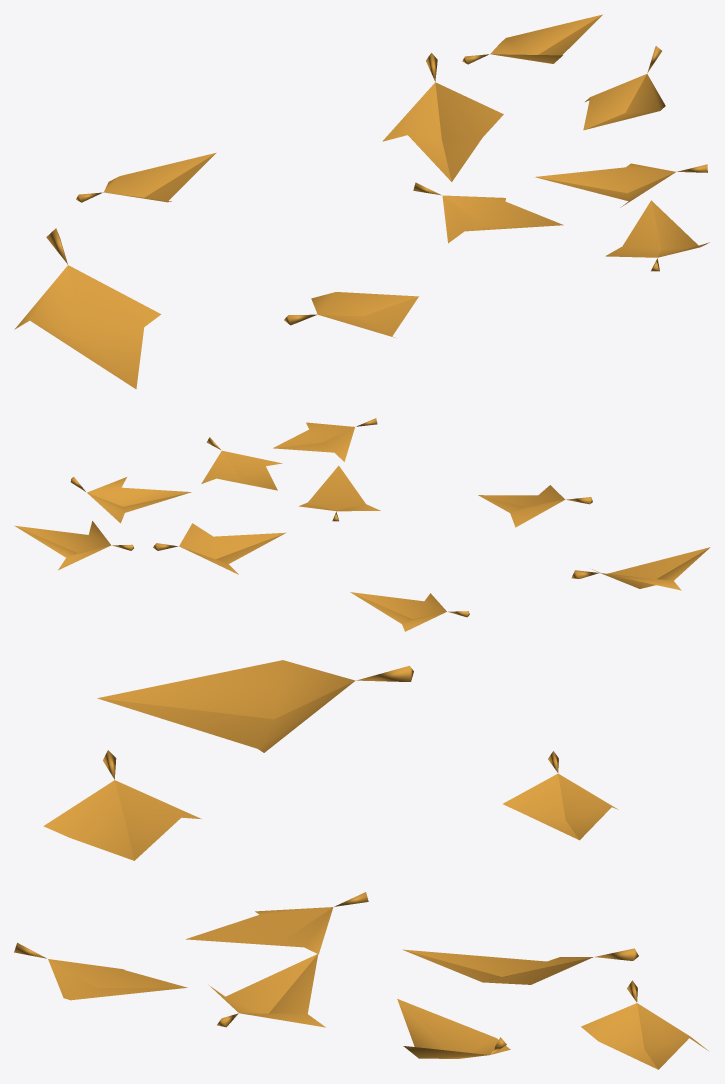
File: leaves.glb
3 views of the same model, one above another, from view 1: azimuth 30°, elevation 25°; view 2: azimuth 150°, elevation 25°; view 3: azimuth 270°, elevation 25° (orthographic). The views are drawn at different scales.
Parts seen in each view (by area): view 1: leaves; view 2: leaves; view 3: leaves.
Part boxes in pixels (x1=…): leaves: x1=14, y1=14, x2=709, y2=388; leaves: x1=14, y1=418, x2=710, y2=631; leaves: x1=14, y1=660, x2=708, y2=1069.
Size of the model in its own units: 13.77 by 1.06 by 9.39.
